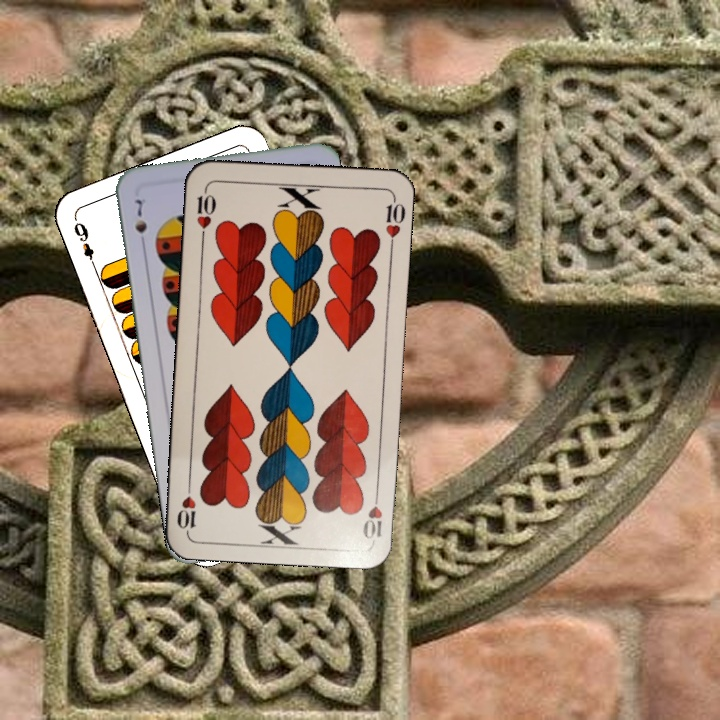E9: (69, 218, 99, 272)
H10: (358, 484, 385, 541), (193, 184, 218, 243)
S7: (131, 195, 150, 251)
